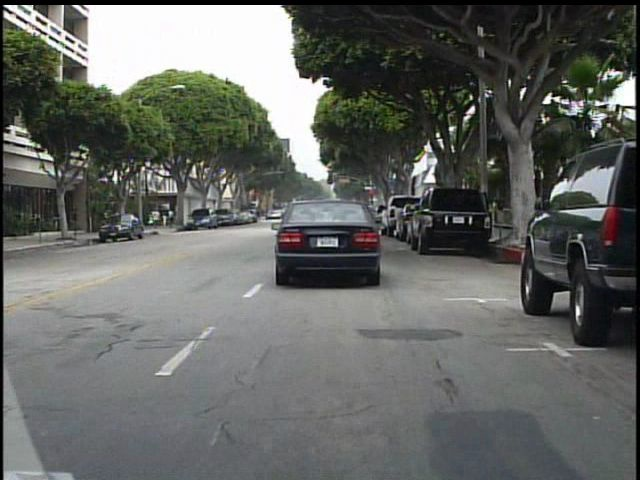person: (150, 204, 165, 233), (168, 204, 180, 231)
